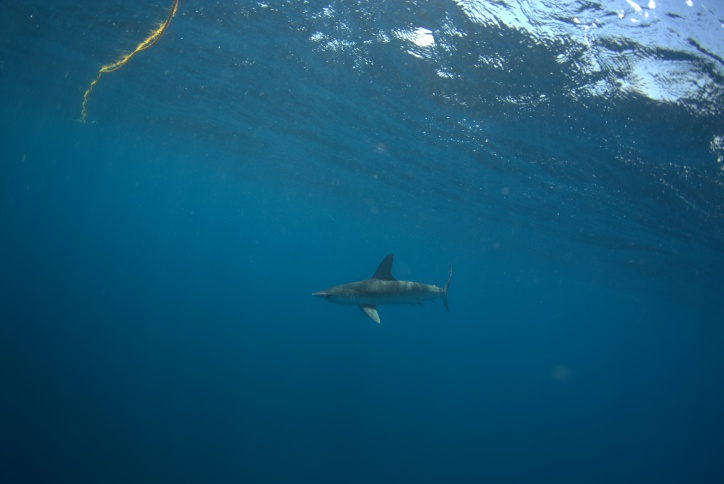Hammer: (286, 238, 477, 333)
